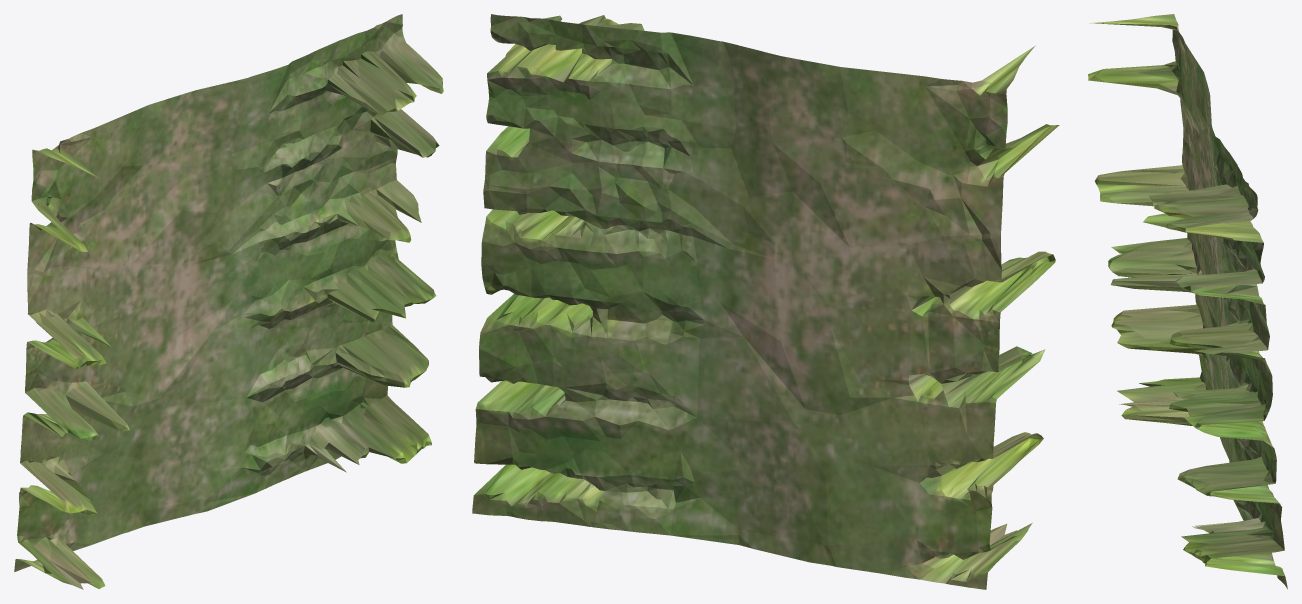
Rendered from map_190_10.obj.
3 views of the same model, side by side, from view 1: azimuth 30°, elevation 25°; view 2: azimuth 150°, elevation 25°; view 3: azimuth 270°, elevation 25° (orthographic). The views are drawn at different scales.
Parts seen in each view (by area): view 1: grp1; view 2: grp1; view 3: grp1.
Part boxes in pixels (x1=…): grp1: x1=14, y1=14, x2=443, y2=589; grp1: x1=472, y1=14, x2=1059, y2=589; grp1: x1=1088, y1=14, x2=1287, y2=589.
Bounding box in the file's own units: 10 × 10 × 4.61.
1 material, 1 textured.
